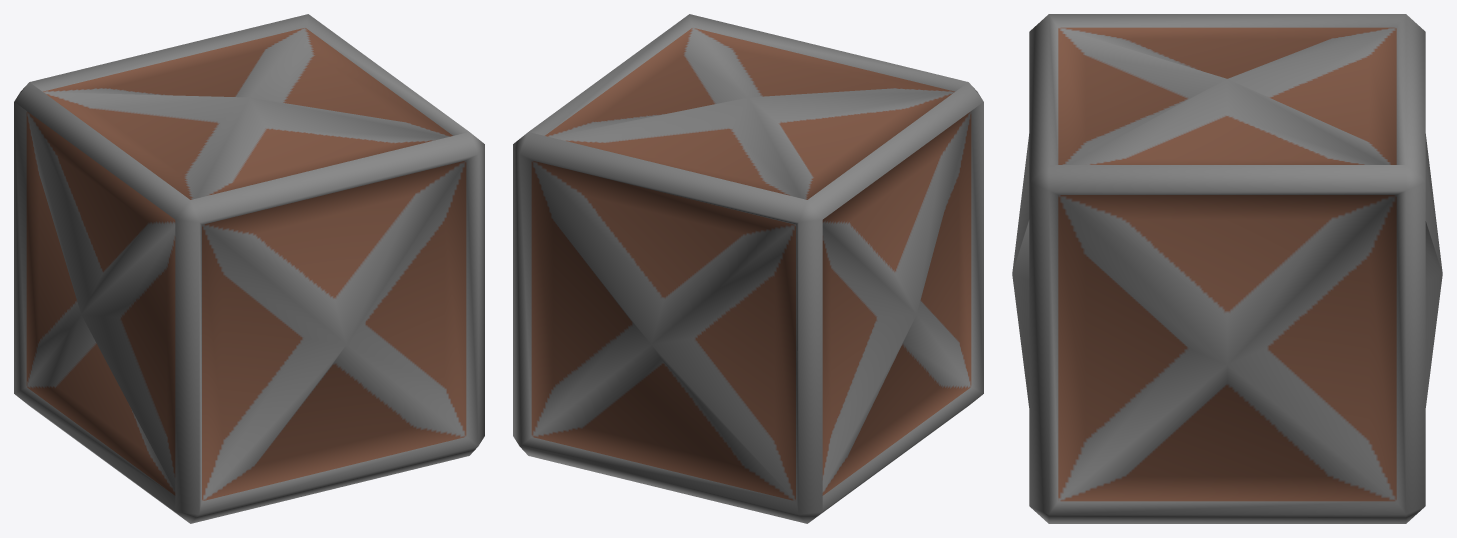
File: crate.fbx
The picture shows the model from 3 angles, left to right: view 1: azimuth 30°, elevation 25°; view 2: azimuth 150°, elevation 25°; view 3: azimuth 270°, elevation 25°; orthographic projection. The views are drawn at different scales.
Visible parts, largest first — view 1: Crate; view 2: Crate; view 3: Crate.
Part boxes in pixels (x1,y1,x2,y2): Crate: (14, 14, 484, 523); Crate: (513, 14, 983, 523); Crate: (1012, 14, 1442, 523).
Size of the model in its own units: 230 by 230 by 217.
